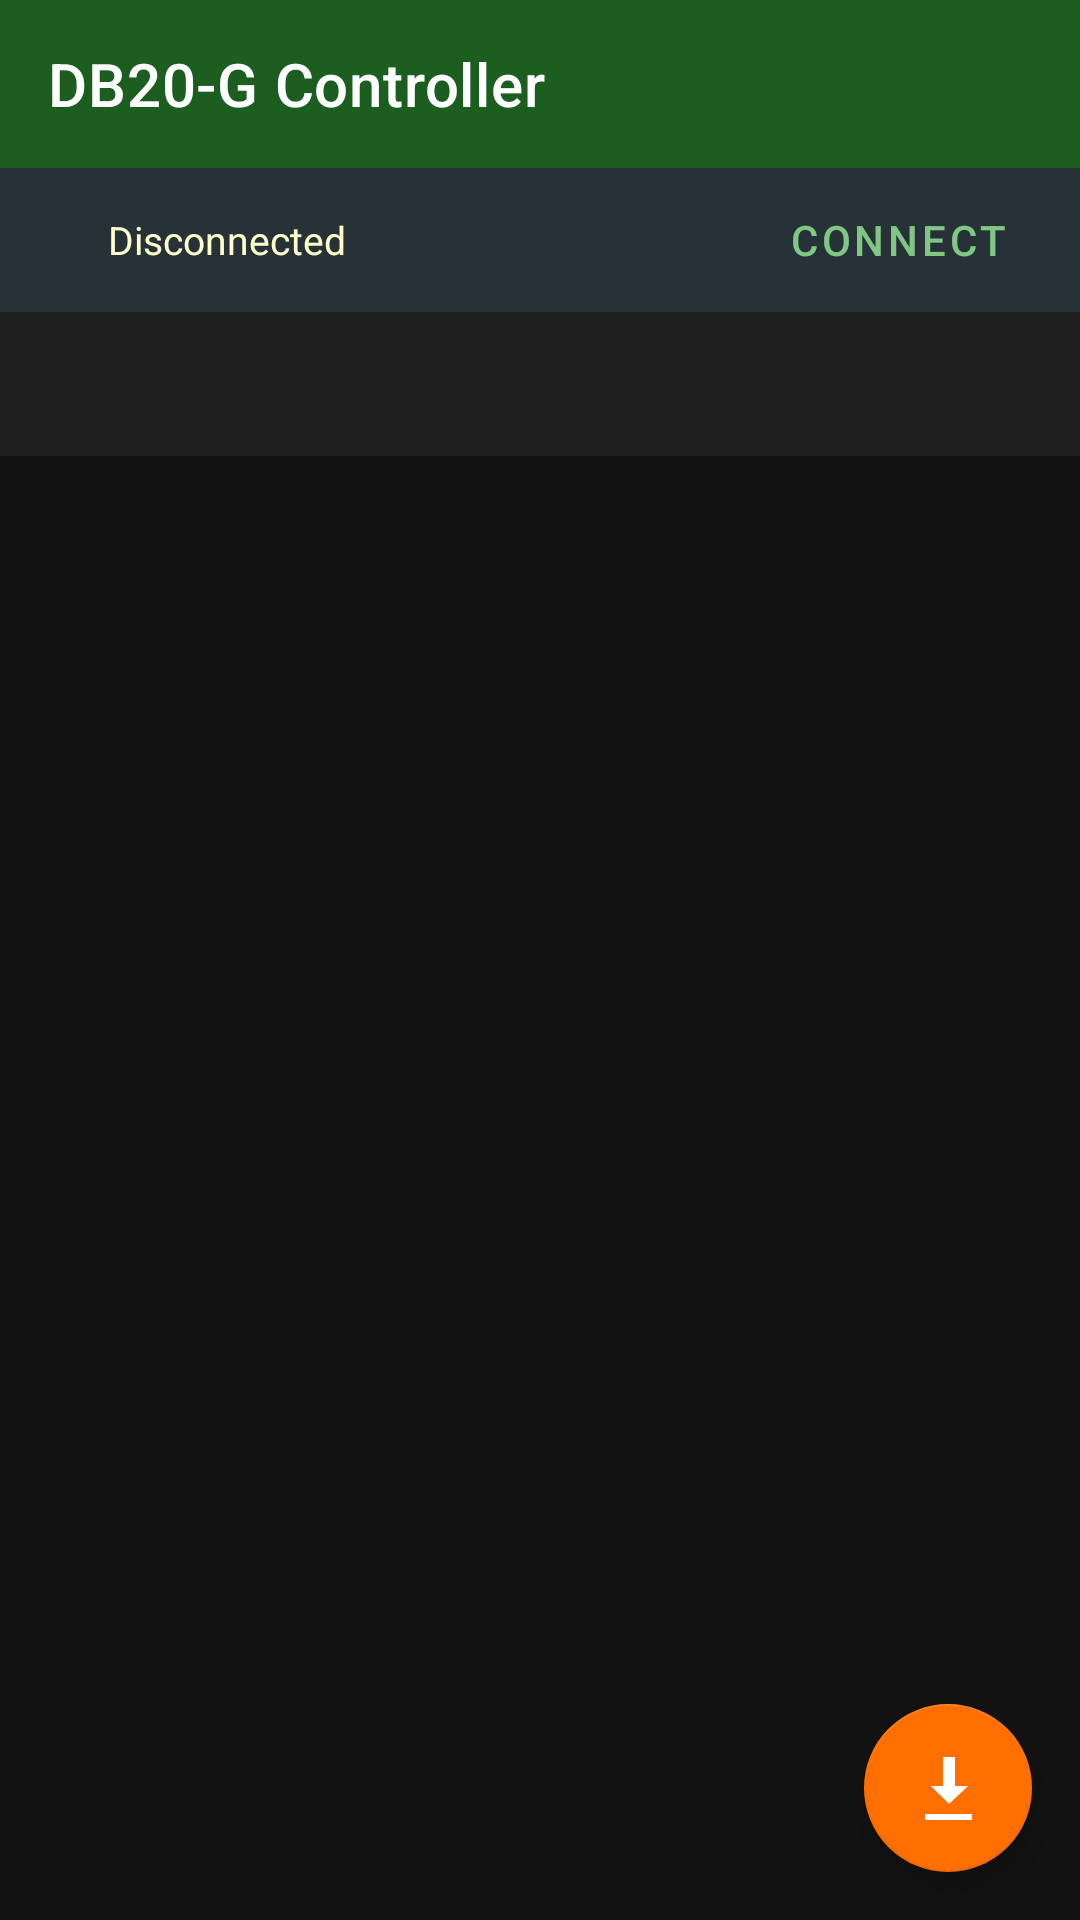

Screen size 1080 × 1920. Icon name, then its center in pixels as (x=x, y=y):
Download from radio: (x=948, y=1788)
